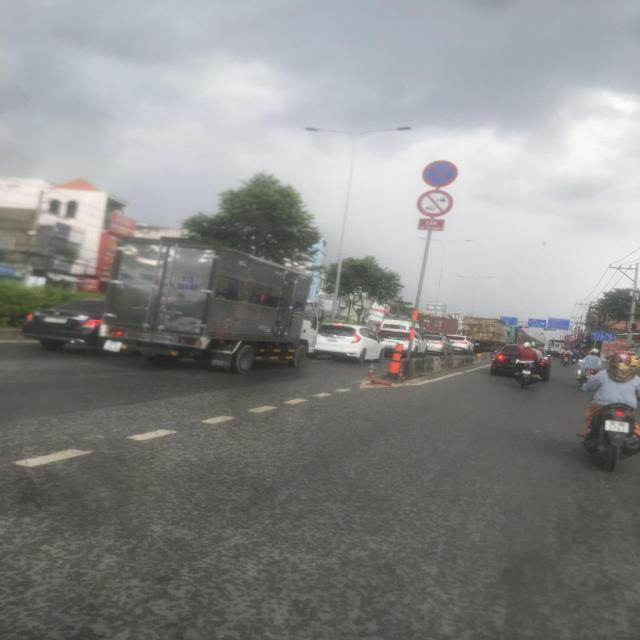cam_dung_xe_va_do_xe: (422, 161, 458, 187)
cam_xe_2_banh_va_xe_3_banh_co_dong_co: (417, 189, 454, 216)
huong_di_tren_moi_lan_duong_theo_vach_ke_duong: (591, 333, 614, 342)
